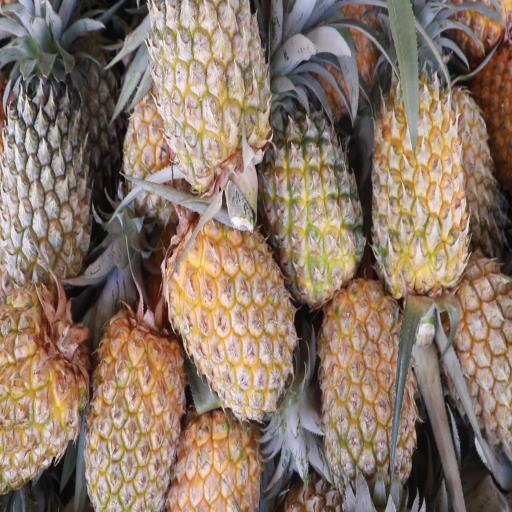------------------------------: (256, 80, 368, 318), (144, 0, 273, 201)
Pineapple - v8 v1: (162, 184, 298, 429), (369, 16, 476, 308), (83, 265, 188, 512), (316, 261, 418, 512), (0, 264, 88, 494), (435, 218, 512, 450), (162, 369, 266, 512)
